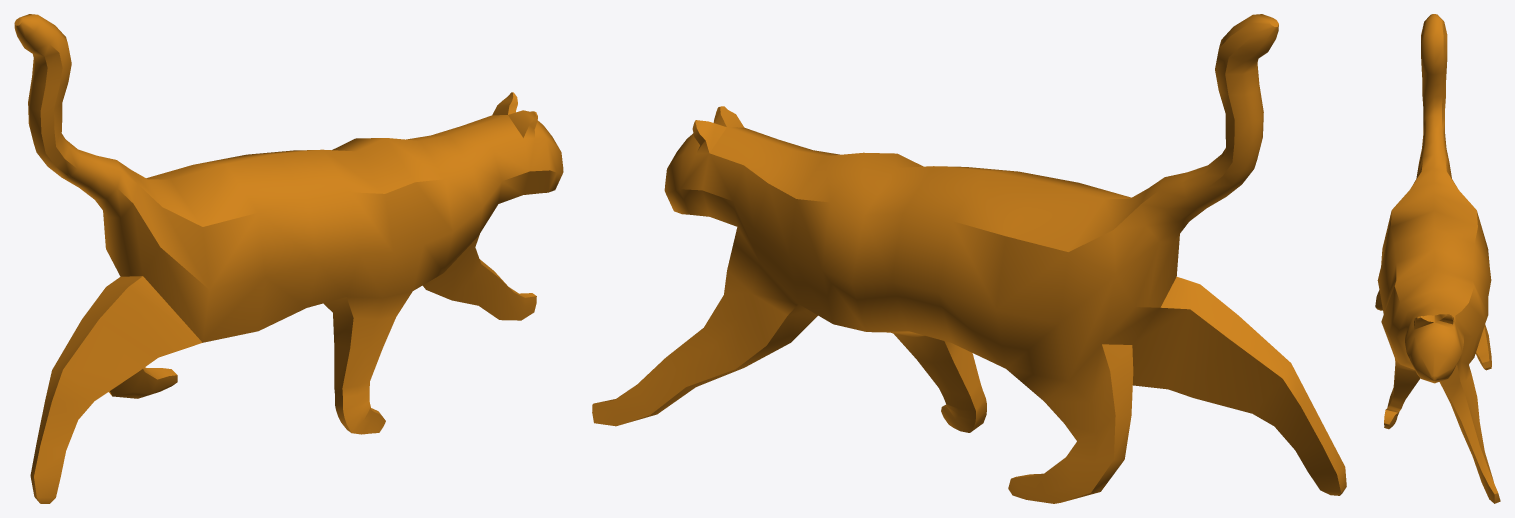
3 renders of one model, left to right at view 1: azimuth 30°, elevation 25°; view 2: azimuth 150°, elevation 25°; view 3: azimuth 270°, elevation 25°, orthographic. The views are drawn at different scales.
Parts seen in each view (by area): view 1: Cilindro; view 2: Cilindro; view 3: Cilindro.
Boxes of the visible parts, x1,y1,x2,y2 form: Cilindro: (14,14,563,503); Cilindro: (592,14,1346,503); Cilindro: (1375,14,1500,503).
Bounding box in the file's own units: 1.31 × 0.9977 × 0.365.
